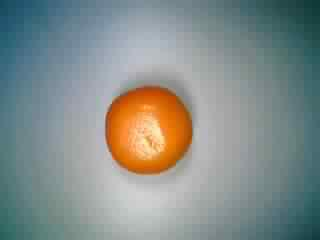orange: (102, 79, 198, 175)
